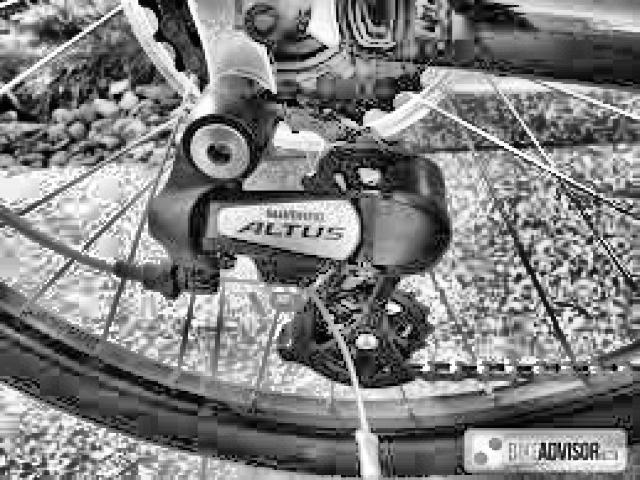rear_derailleur: (130, 73, 448, 390)
